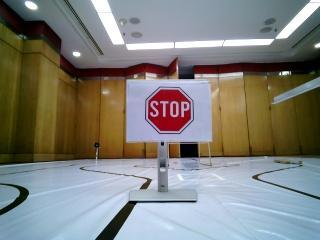stop: (127, 82, 202, 136)
